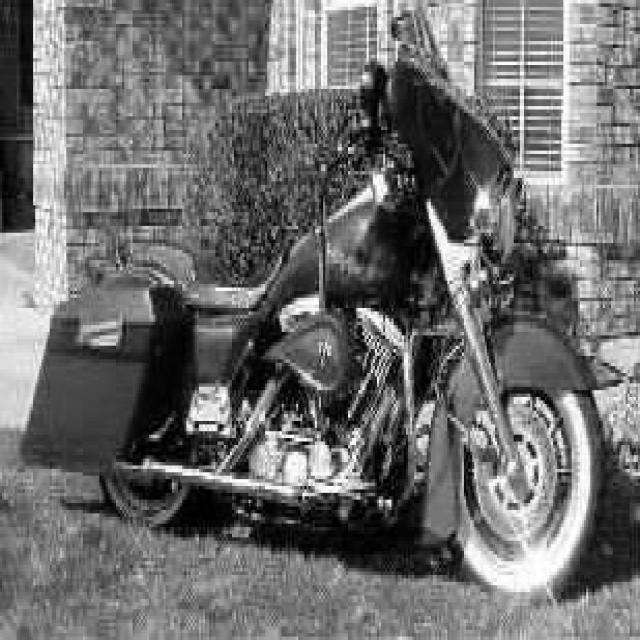Motorcycle: (21, 55, 605, 597)
